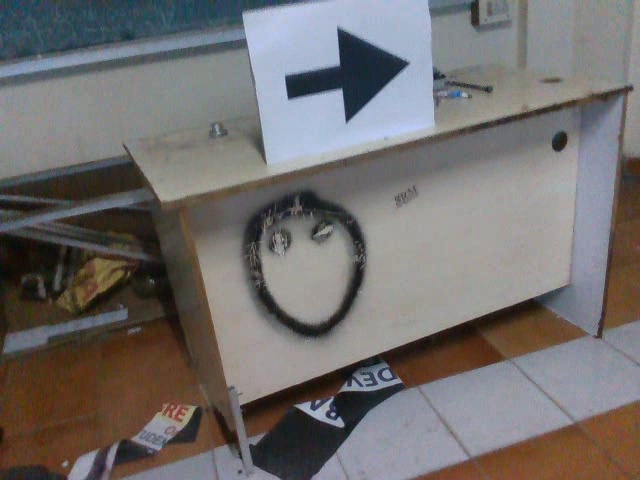Right: (278, 21, 412, 126)
